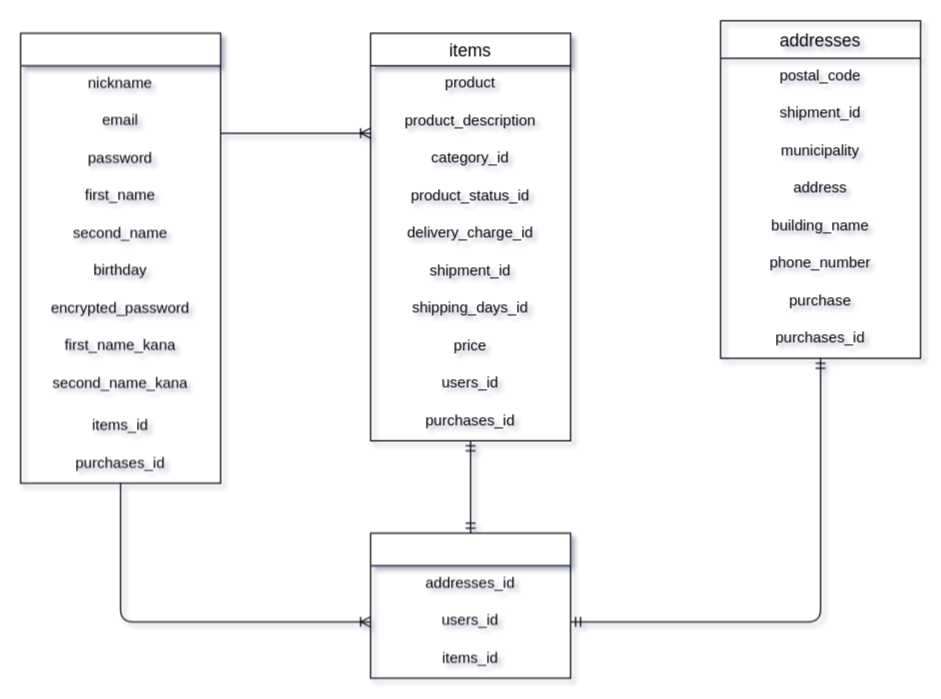
Some shapes in this 941 by 699 pixel diagram are drawn without their labels. Here are the shapes that lost their labels. From the top down, the box of each, then its label:
(19, 32, 221, 483): users
(369, 532, 571, 678): purchases
